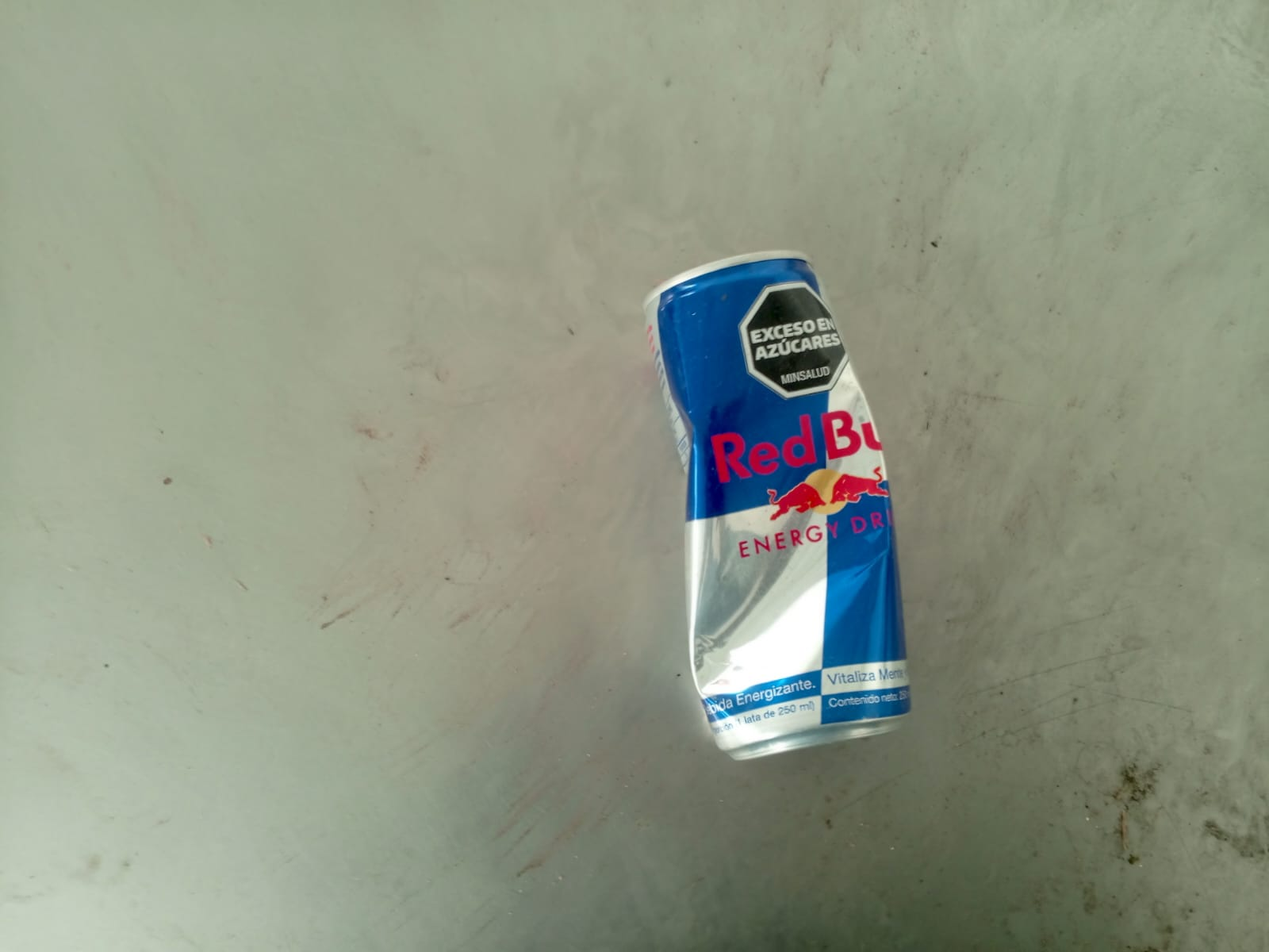Metal: (648, 252, 912, 761)
